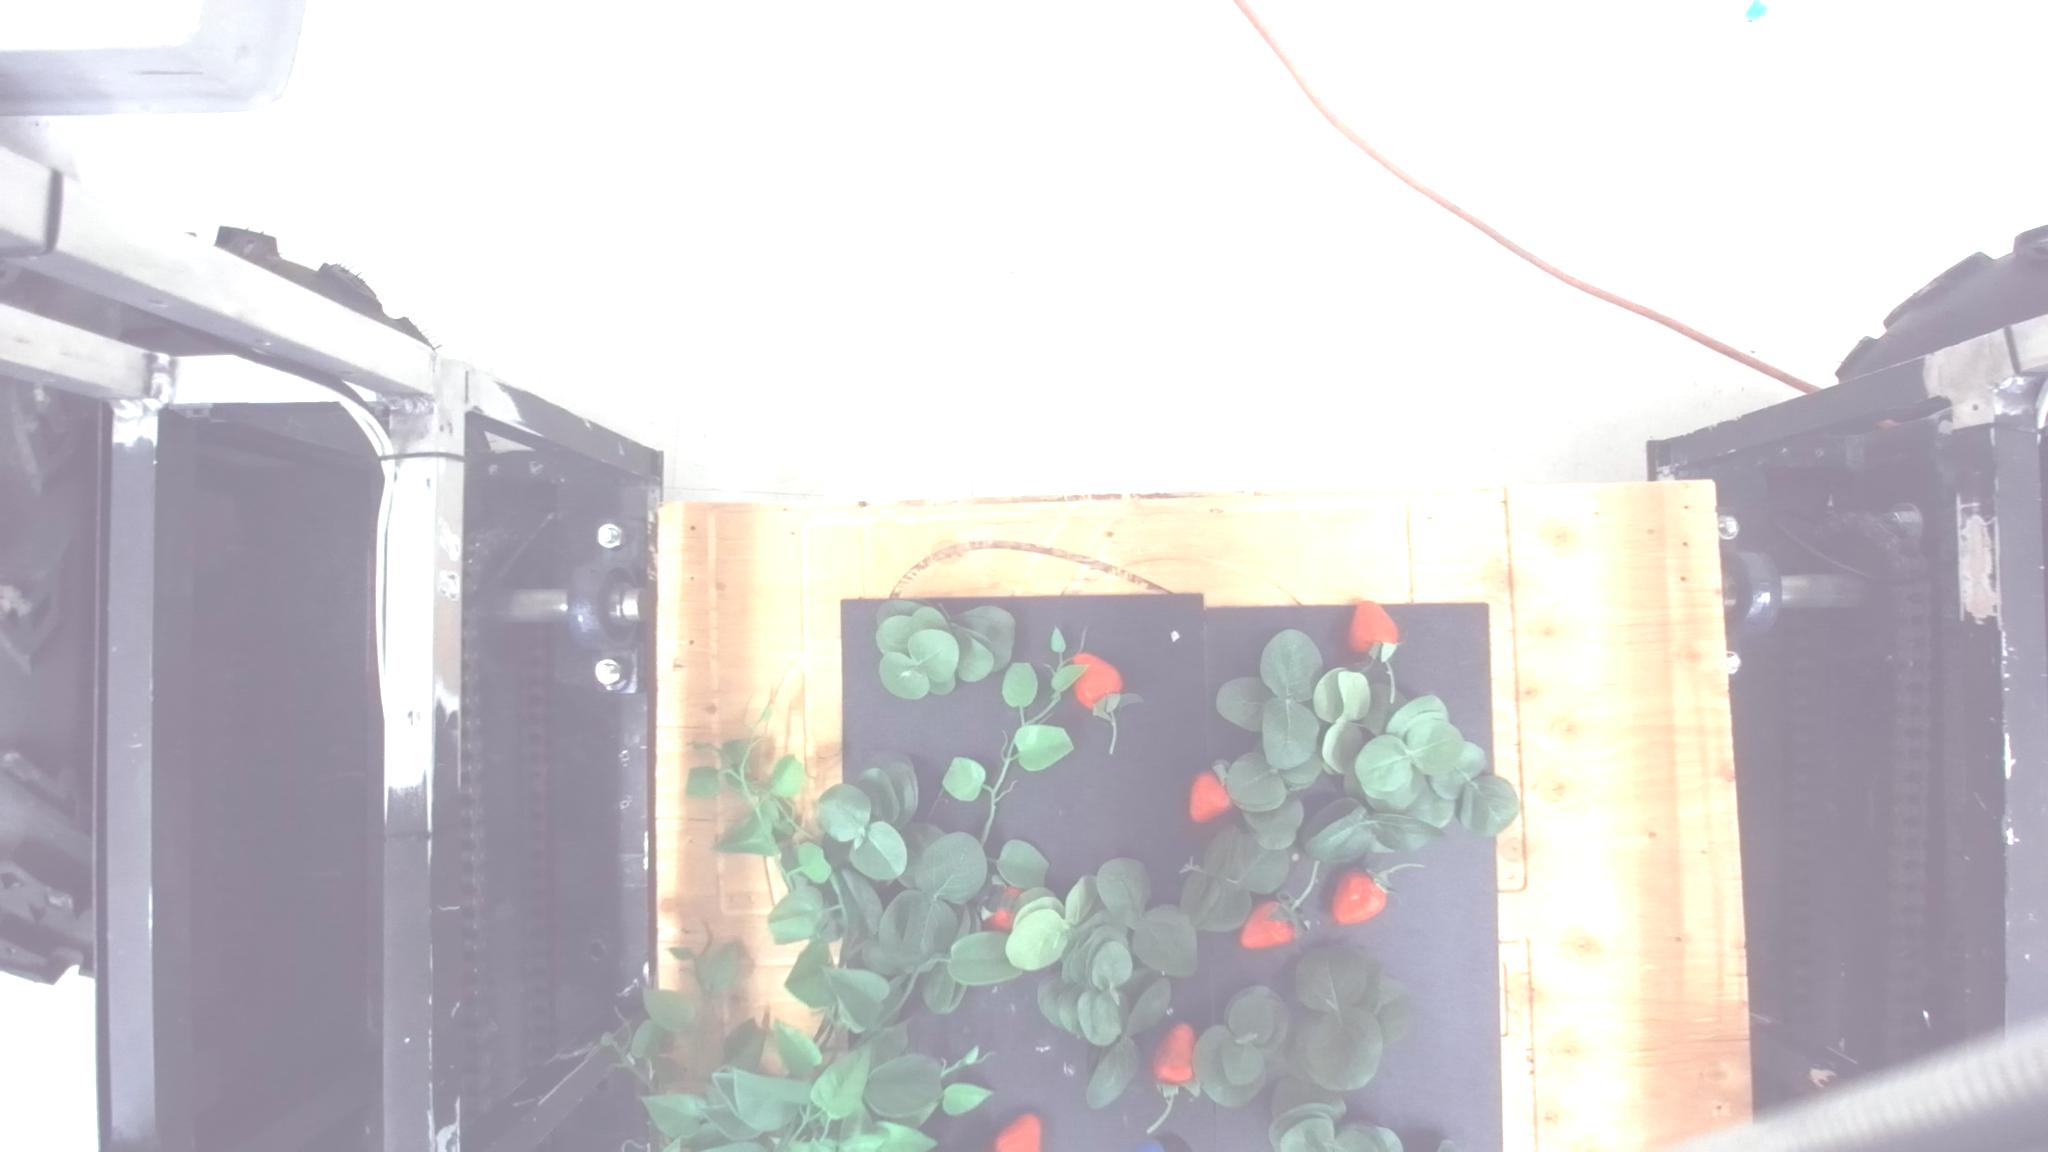mature: (1346, 598, 1400, 663), (1066, 650, 1122, 710), (1238, 899, 1304, 949), (1332, 866, 1388, 926), (1151, 1021, 1196, 1084), (1187, 768, 1234, 821), (993, 1113, 1041, 1151), (979, 906, 1013, 933), (992, 883, 1023, 902)
